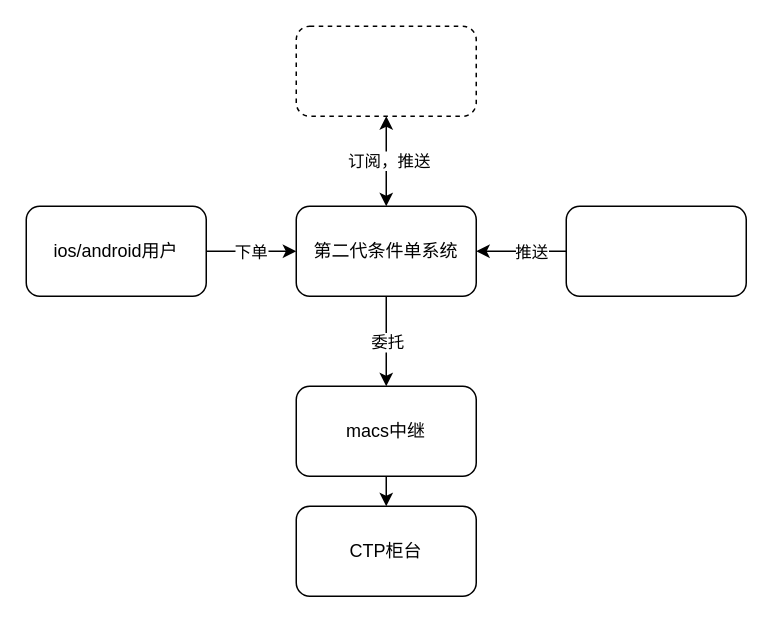
The diagram is 773 pixels wide and 623 high, and some of its shapes have lost their labels. The centre of each missing label's shape, as x and y in pixels:
恒生行情云: the point at 655,250
数据中台: the point at 385,70
